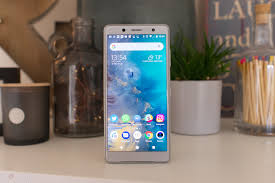sony: (102, 23, 172, 164)
